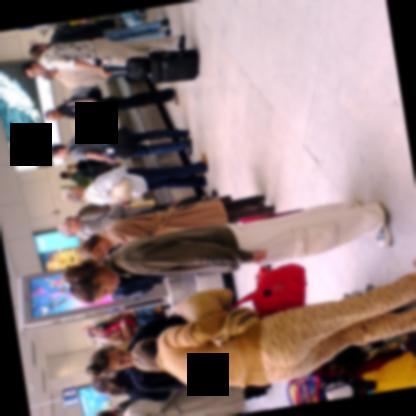backpack: (62, 84, 102, 107)
handbag: (234, 259, 306, 315), (65, 125, 133, 156), (83, 176, 133, 201)
suitcase: (147, 47, 200, 82)
